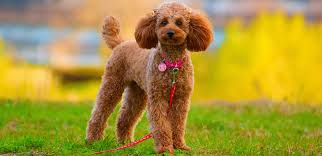Poodle: (69, 1, 241, 152)
